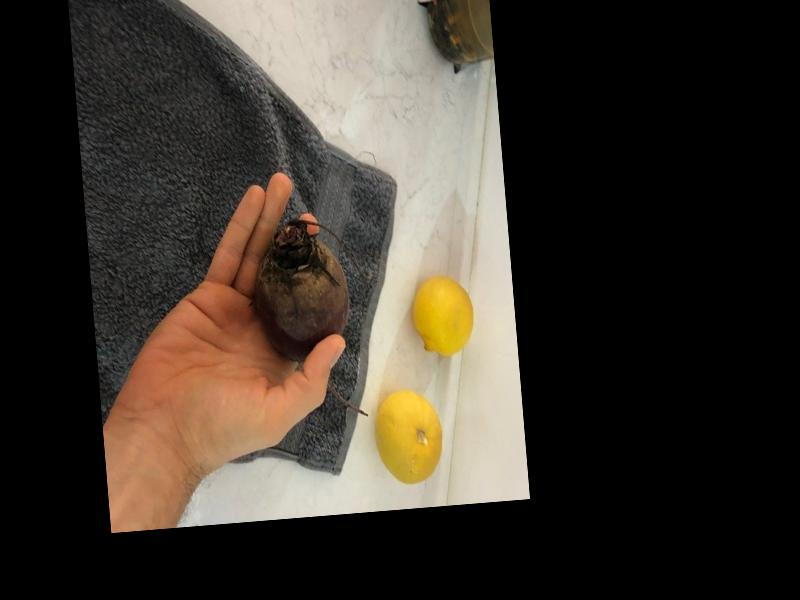Beet: (248, 216, 368, 425)
